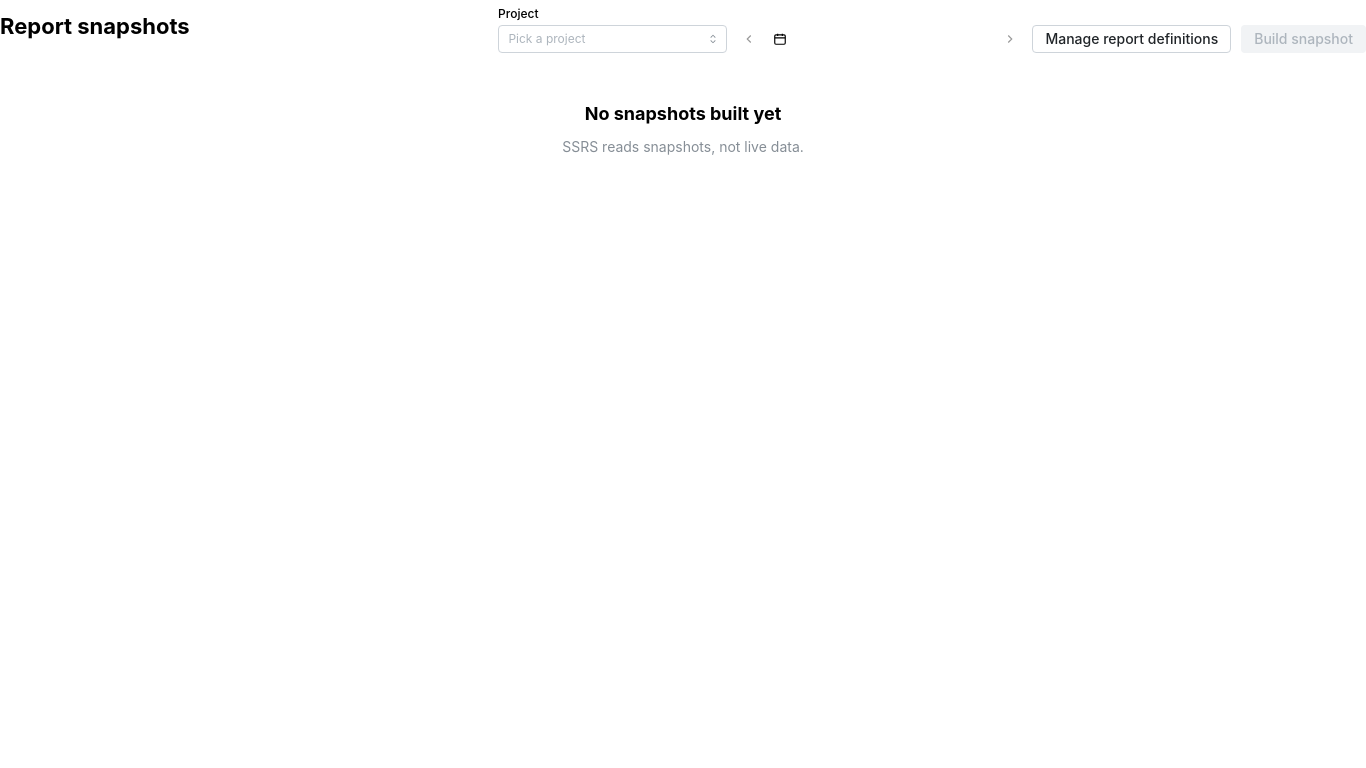
Test: SnapshotsPage: список оновлюється після завершення побудови (lane6) › щойно побудований зріз з'являється в списку без ручного перезавантаження
The image size is (1366, 768).
Expected: the heading "No snapshots built yet" is shown, [585,101,781,127]
What coordinates should you click on to do the following:
click the field labelled "Project"
I would click on:
 (613, 39)
Its box is [498,25,727,53].
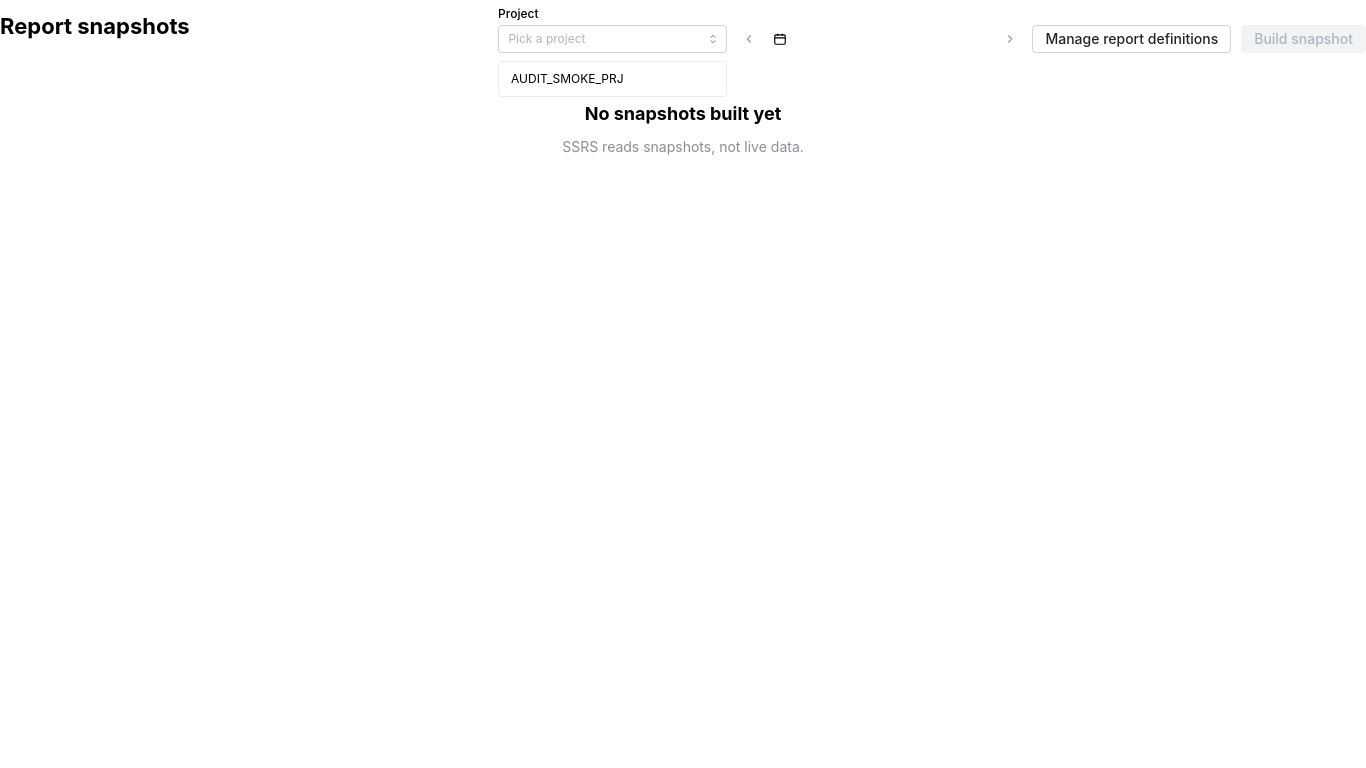
What coordinates should you click on to do the following:
click the option "AUDIT_SMOKE_PRJ"
I would click on:
 (567, 78)
Its box is [511,71,624,86].
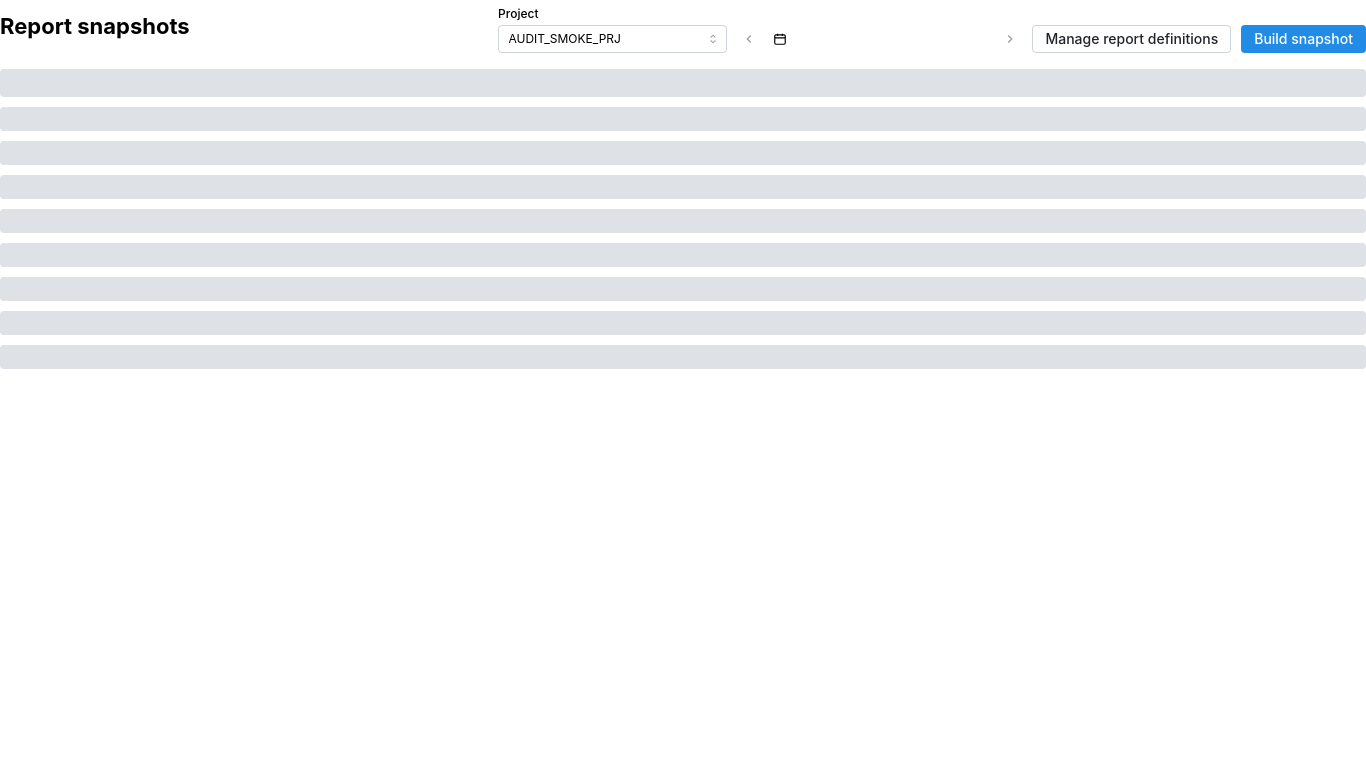
What coordinates should you click on to do the following:
click the button "Build snapshot"
I would click on:
 (1304, 39)
Its box is [1241,25,1365,53].
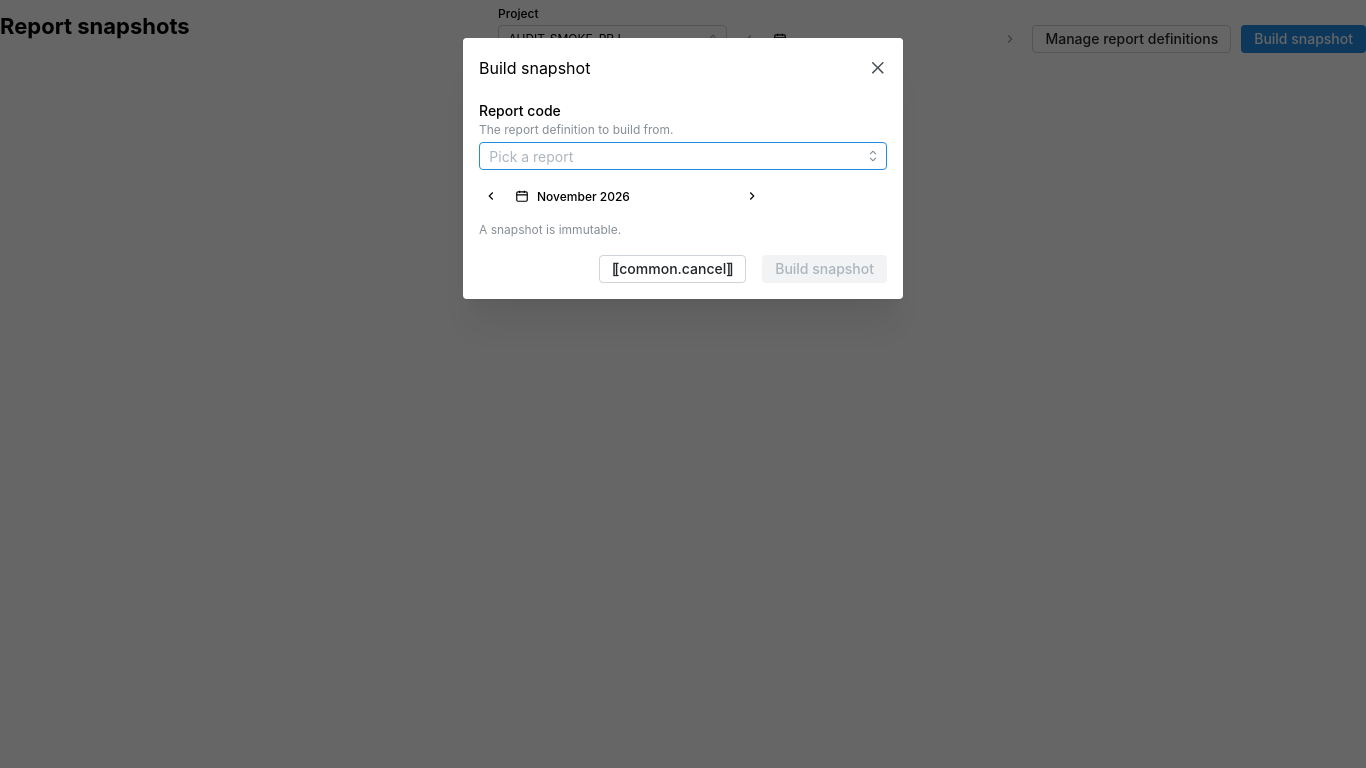
What coordinates should you click on to do the following:
click the field labelled "Report code"
I would click on:
 (683, 157)
Its box is [479,143,887,171].
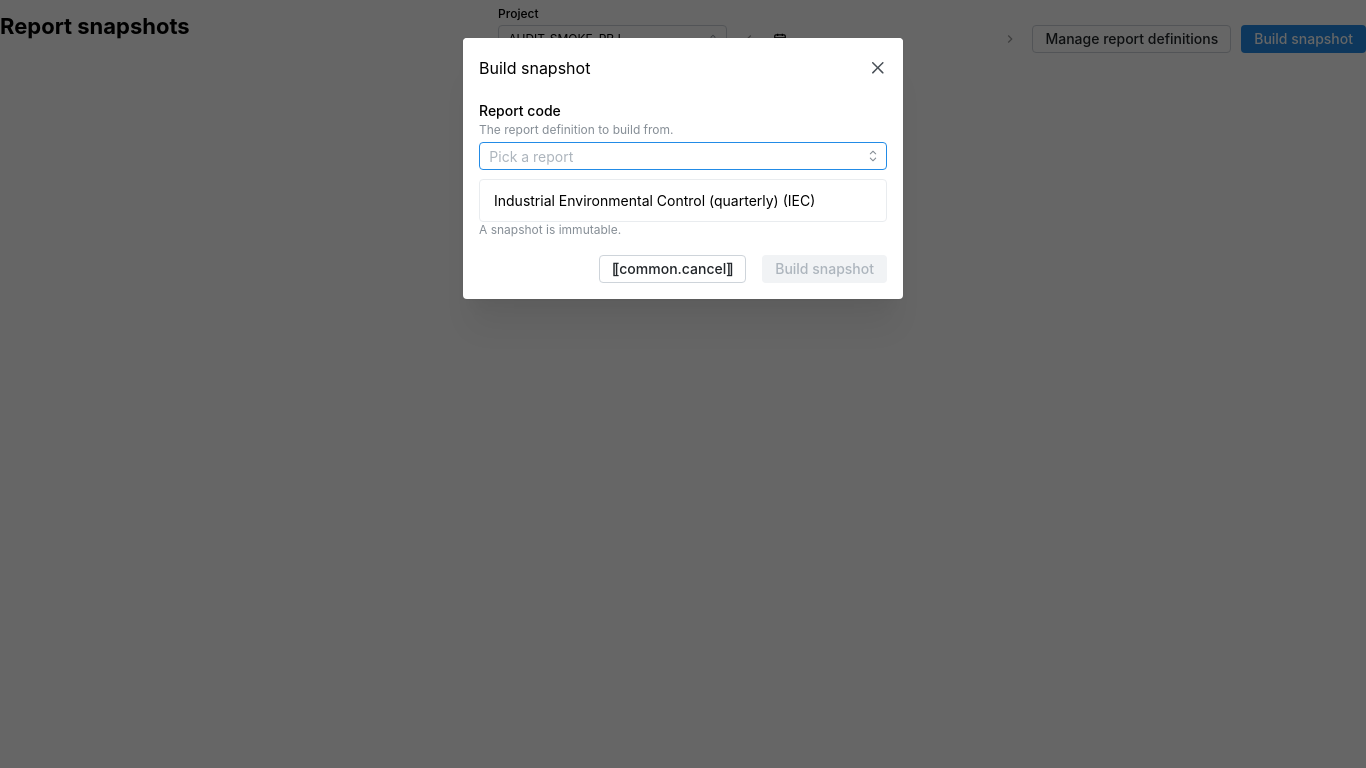
What coordinates should you click on to do the following:
click the option "Industrial Environmental Control (quarterly) (IEC)"
I would click on:
 (655, 200)
Its box is [494,192,815,209].
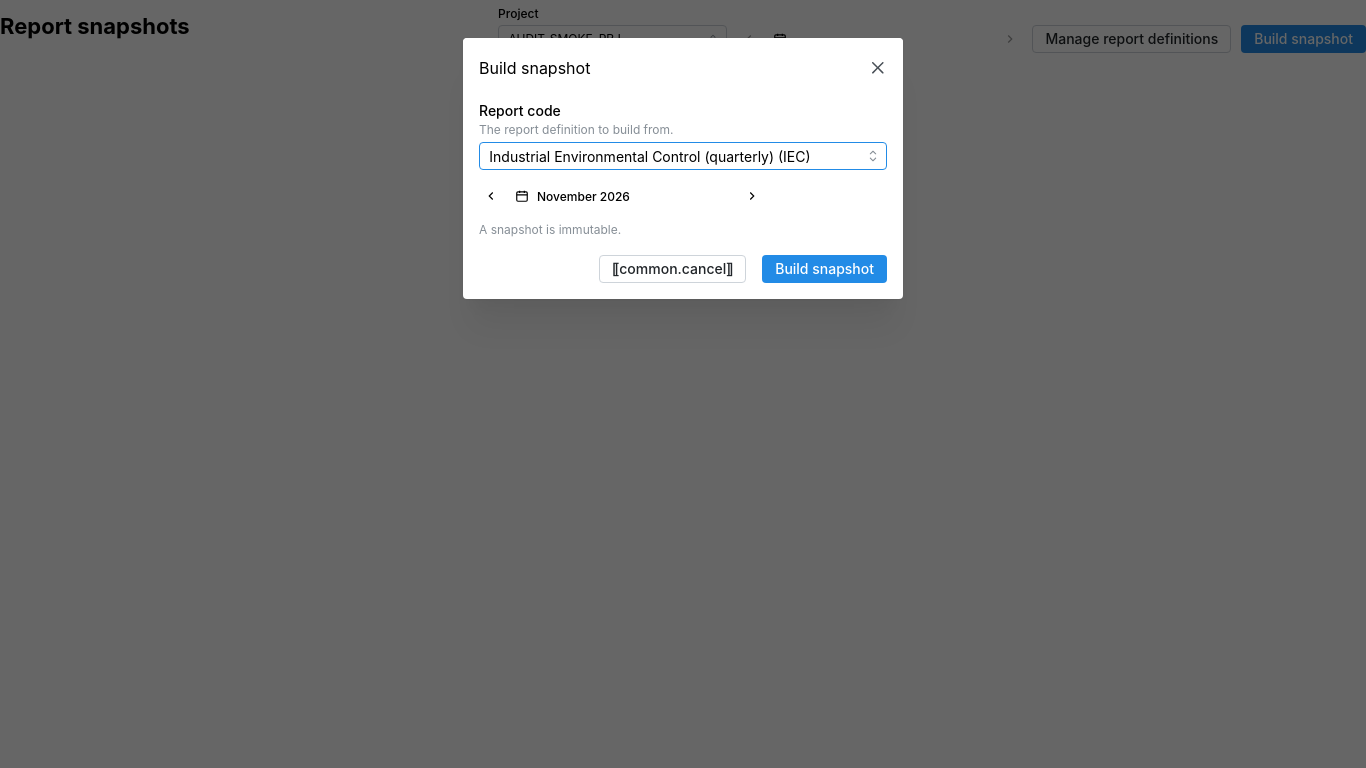
What coordinates should you click on to do the following:
click the button "Build snapshot"
I would click on:
 (825, 269)
Its box is [762,255,887,283].
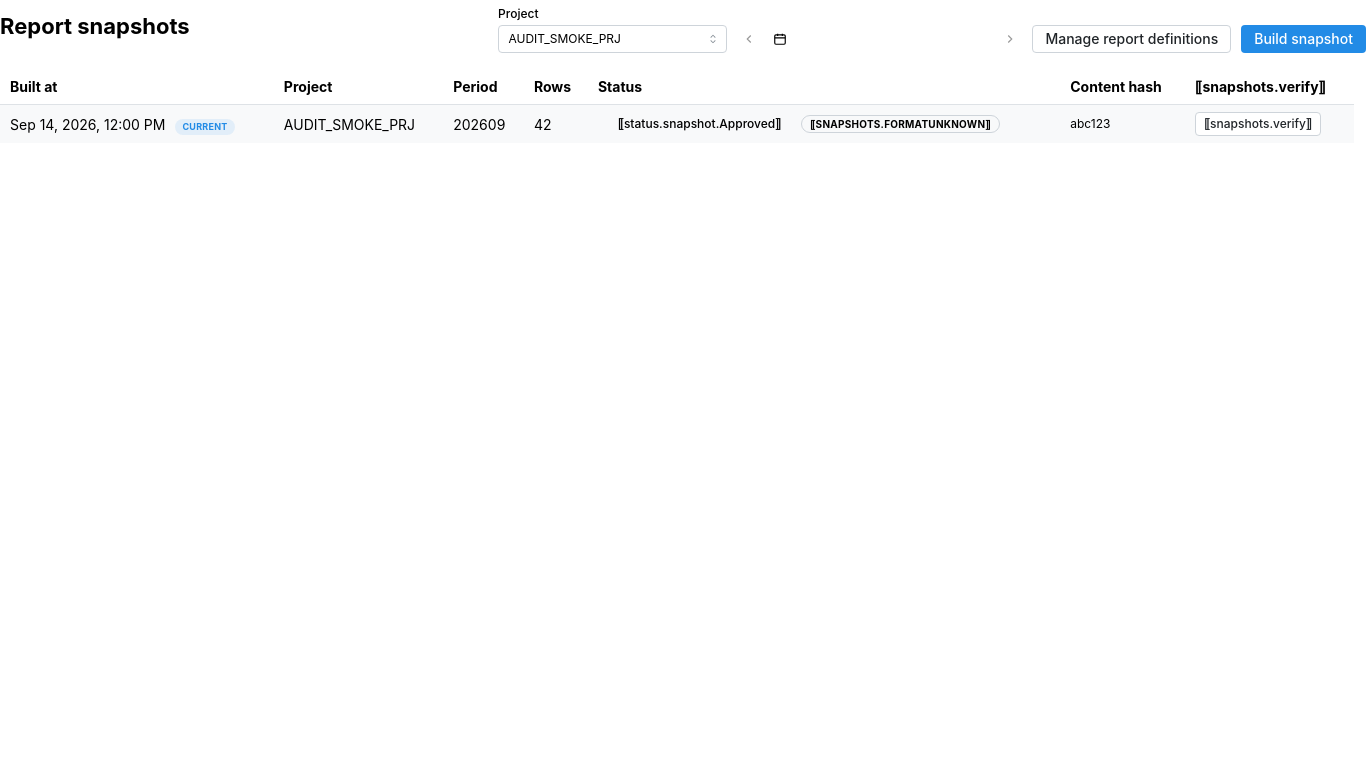
Now the heading "No snapshots built yet" is gone
Now the text "42" is shown, box [534,116,552,133]
